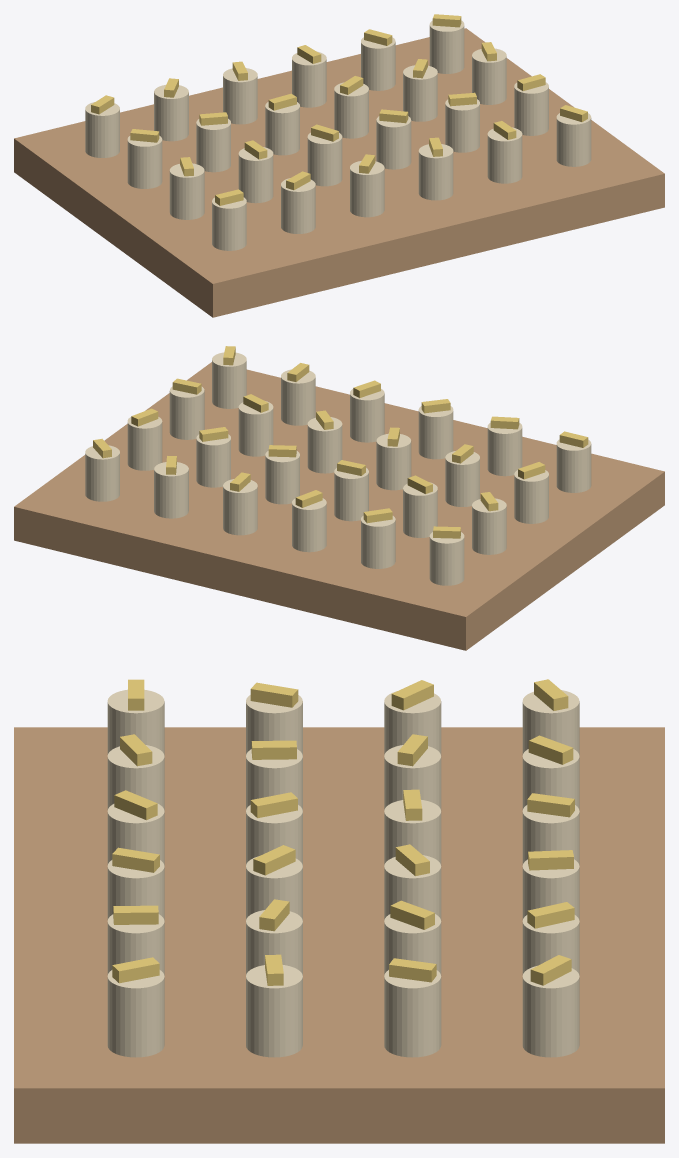
Rendered from festinger_pegboard.glb.
3 renders of one model, top to bottom at view 1: azimuth 30°, elevation 25°; view 2: azimuth 150°, elevation 25°; view 3: azimuth 270°, elevation 25°, orthographic. The views are drawn at different scales.
Visible parts, largest first — view 1: Pegboard_Tray, Peg_0_3, Peg_1_0, Peg_0_4, Peg_0_2, Peg_2_4, Peg_3_1, Peg_2_0, Peg_0_5, Peg_2_5, Peg_3_2, Peg_3_0 (+13 smaller); view 2: Pegboard_Tray, Peg_3_4, Peg_1_2, Peg_2_0, Peg_0_5, Peg_1_3, Peg_3_5, Peg_3_3, Peg_3_0, Peg_0_0, Peg_2_5, Peg_1_4 (+13 smaller); view 3: Pegboard_Tray, Peg_1_5, Peg_3_5, Peg_0_5, Peg_2_5, Peg_0_0, Peg_2_2, Peg_2_1, Peg_1_4, Peg_0_1, Peg_2_3, Peg_3_0 (+34 smaller).
Part boxes in pixels (x1,y1,x2,y2): Pegboard_Tray: [14, 28, 664, 317]; Peg_0_3: [418, 144, 453, 200]; Peg_1_0: [169, 163, 204, 219]; Peg_0_4: [487, 127, 522, 183]; Peg_0_2: [350, 161, 384, 217]; Peg_2_4: [403, 65, 437, 121]; Peg_3_1: [154, 85, 188, 141]; Peg_2_0: [127, 135, 162, 188]; Peg_0_5: [556, 113, 591, 166]; Peg_2_5: [472, 48, 506, 104]; Peg_3_2: [223, 68, 257, 124]; Peg_3_0: [85, 102, 119, 157]; Pegboard_Tray: [14, 362, 664, 650]; Peg_3_4: [154, 462, 188, 518]; Peg_1_2: [376, 433, 411, 490]; Peg_2_0: [472, 498, 506, 554]; Peg_0_5: [212, 352, 246, 408]; Peg_1_3: [307, 417, 342, 473]; Peg_3_5: [85, 445, 119, 501]; Peg_3_3: [223, 479, 257, 535]; Peg_3_0: [429, 532, 464, 585]; Peg_0_0: [556, 439, 591, 492]; Peg_2_5: [127, 417, 162, 470]; Peg_1_4: [238, 401, 273, 456]; Pegboard_Tray: [14, 727, 664, 1143]; Peg_1_5: [246, 965, 302, 1057]; Peg_3_5: [522, 966, 579, 1057]; Peg_0_5: [107, 970, 164, 1057]; Peg_2_5: [384, 970, 441, 1057]; Peg_0_0: [107, 689, 164, 755]; Peg_2_2: [384, 800, 441, 865]; Peg_2_1: [384, 745, 441, 810]; Peg_1_4: [246, 910, 302, 975]; Peg_0_1: [107, 745, 164, 810]; Peg_2_3: [384, 855, 441, 920]; Peg_3_0: [522, 690, 579, 755].
Size of the model in its own units: 4.2 by 0.74 by 3.2.
